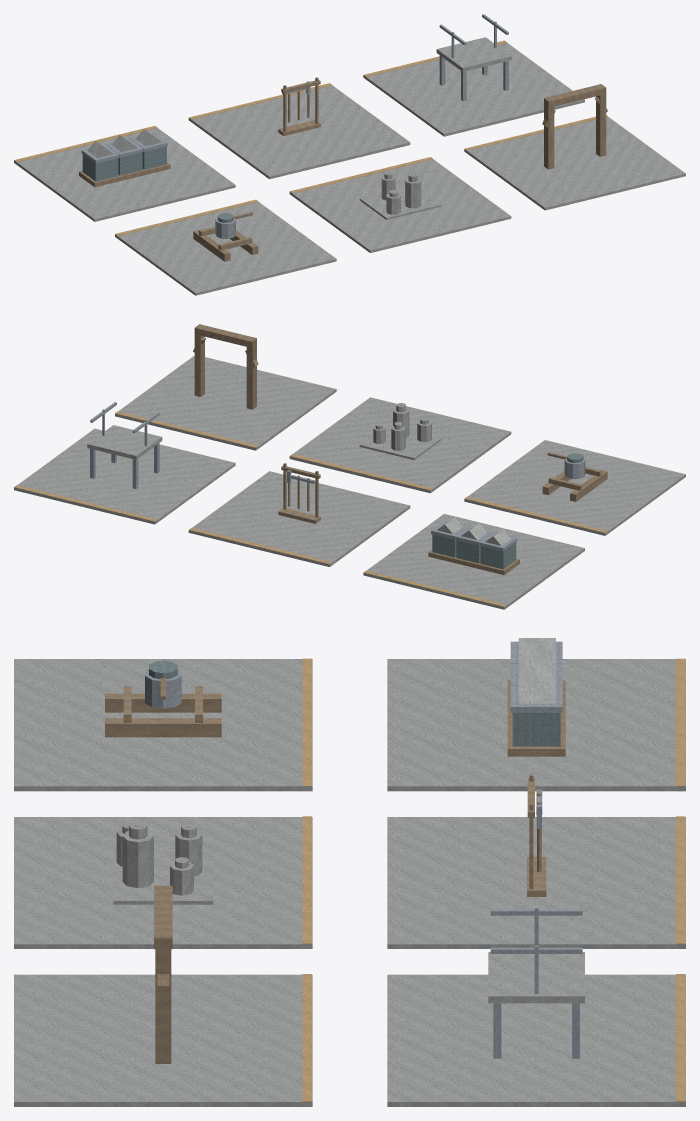
Rendered from level_blockout_kit_wld_05_p03.glb.
3 renders of one model, top to bottom at view 1: azimuth 30°, elevation 25°; view 2: azimuth 150°, elevation 25°; view 3: azimuth 270°, elevation 25°, orthographic. The views are drawn at different scales.
Parts seen in each view (by area): view 1: level_blockout_kit_wld_05_p03; view 2: level_blockout_kit_wld_05_p03; view 3: level_blockout_kit_wld_05_p03.
Boxes of the visible parts, left/top/right/bottom form: level_blockout_kit_wld_05_p03: left=14, top=14, right=685, bottom=295; level_blockout_kit_wld_05_p03: left=14, top=324, right=685, bottom=609; level_blockout_kit_wld_05_p03: left=14, top=638, right=685, bottom=1106.
Bounding box in the file's own units: 19.65 × 2.72 × 12.6.
5 materials, 5 textured.
